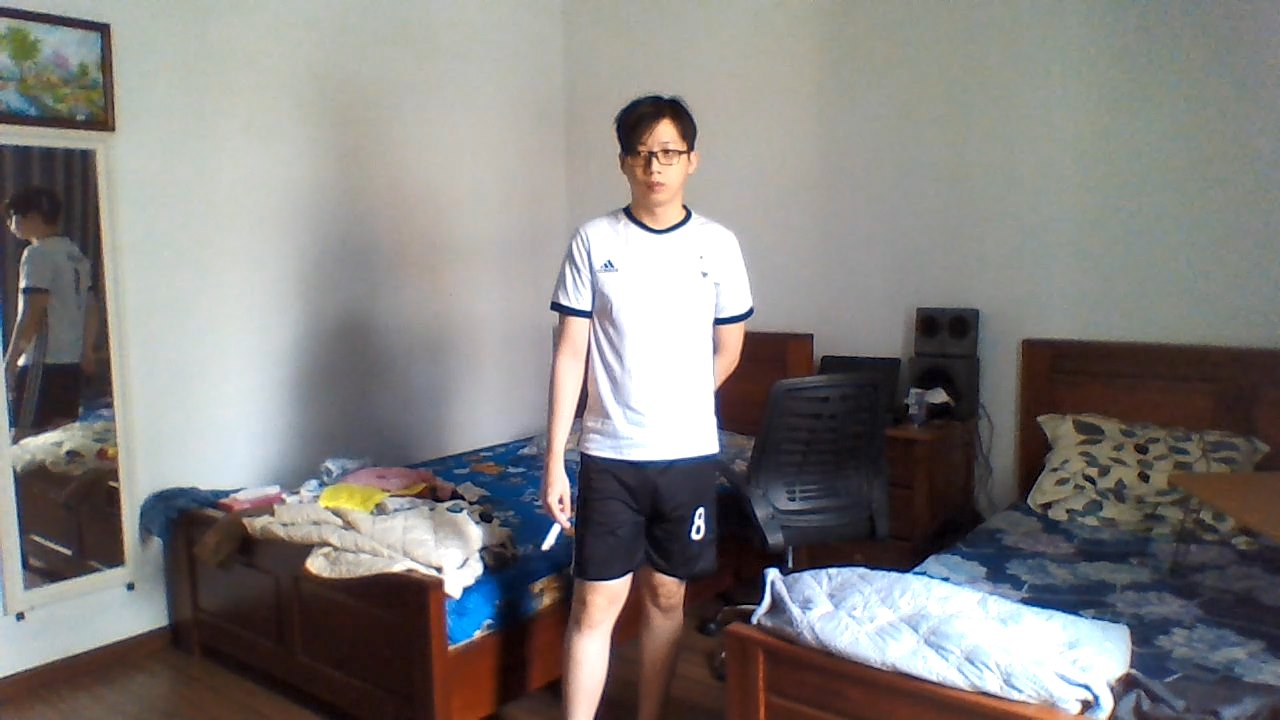cigarette: (532, 516, 564, 554)
person: (527, 83, 763, 720)
